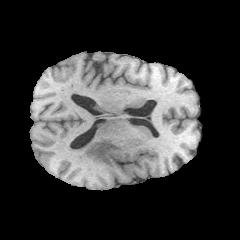glioma: (70, 139, 120, 168)
